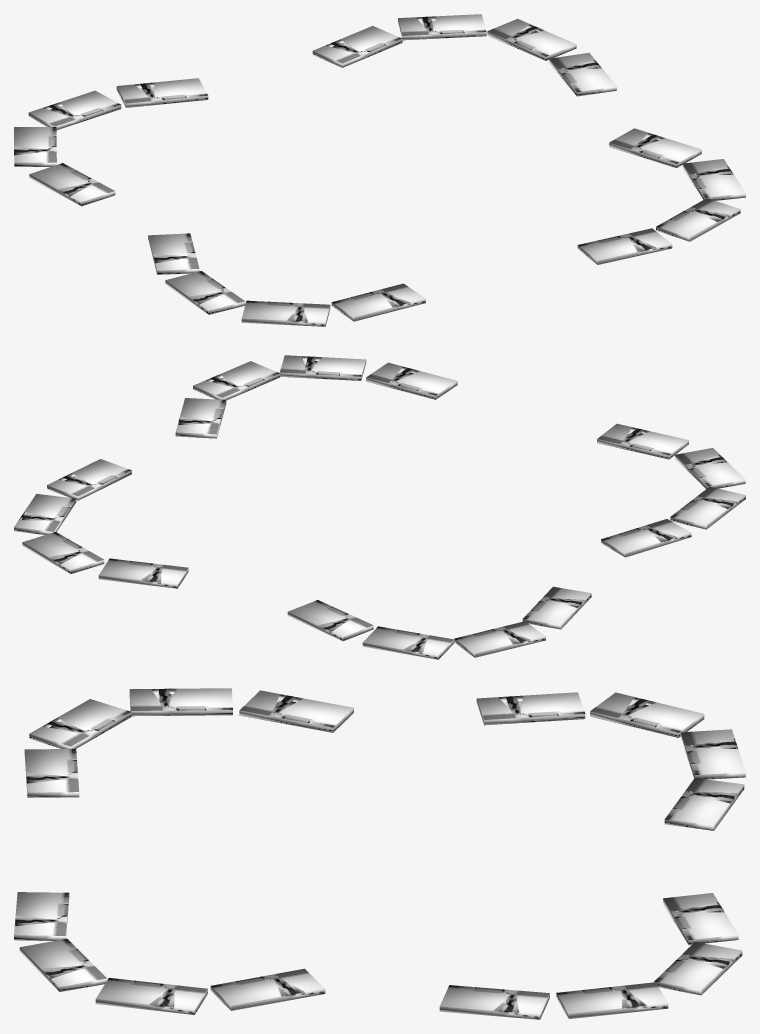
Rendered from wonder_prop.dae.
The picture shows the model from 3 angles, top to bottom: view 1: azimuth 30°, elevation 25°; view 2: azimuth 150°, elevation 25°; view 3: azimuth 270°, elevation 25°; orthographic projection. The views are drawn at different scales.
Visible parts, largest first — view 1: wonder_prop; view 2: wonder_prop; view 3: wonder_prop.
Part boxes in pixels (x1,y1,x2,y2): wonder_prop: (14, 14, 745, 326); wonder_prop: (14, 355, 745, 659); wonder_prop: (14, 688, 745, 1019).
Size of the model in its own units: 33.25 by 31.51 by 0.2459.
